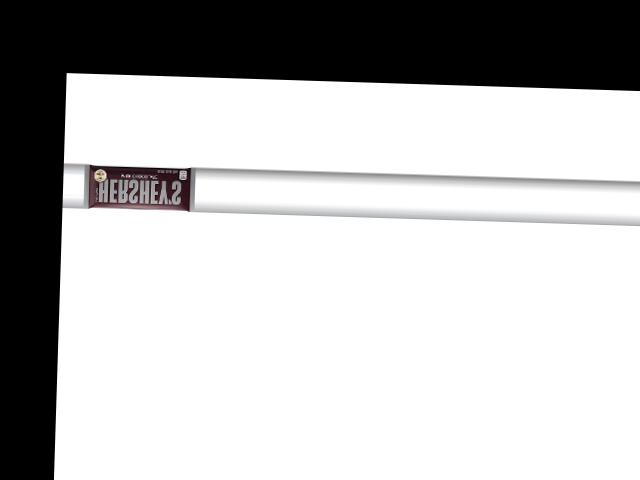chocolate: (85, 159, 195, 210)
